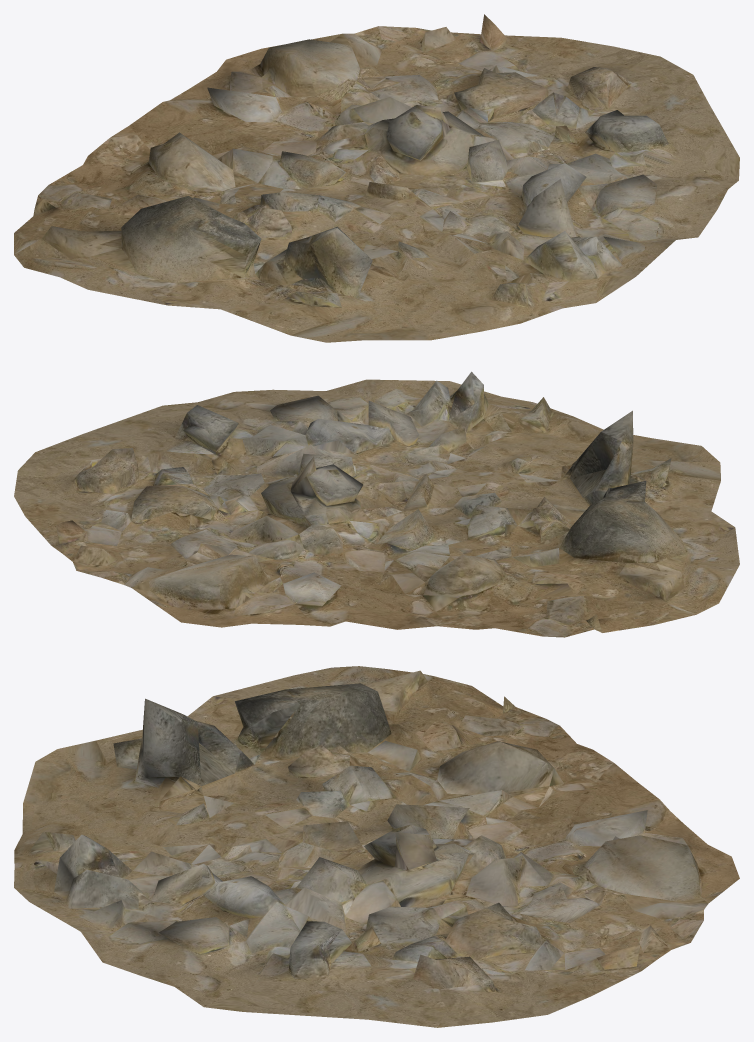
The model's file is river_pebbles_cluster.glb.
3 views of the same model, one above another, from view 1: azimuth 30°, elevation 25°; view 2: azimuth 150°, elevation 25°; view 3: azimuth 270°, elevation 25° (orthographic). The views are drawn at different scales.
Parts seen in each view (by area): view 1: RiverPebblesCluster; view 2: RiverPebblesCluster; view 3: RiverPebblesCluster.
Boxes of the visible parts, x1,y1,x2,y2 form: RiverPebblesCluster: (14, 14, 739, 342); RiverPebblesCluster: (14, 371, 739, 637); RiverPebblesCluster: (14, 666, 739, 1027).
Size of the model in its own units: 4.63 by 0.5282 by 3.88.
Materials: 1 (1 with a texture image).
